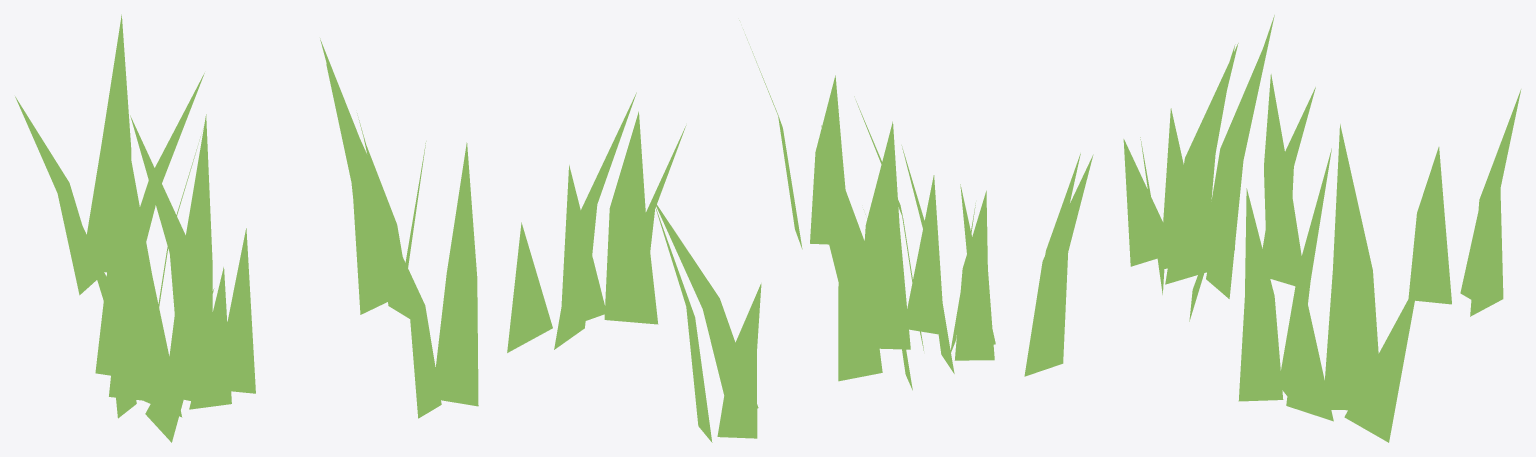
File: Grass_a_TwoS_07.fbx
3 views of the same model, side by side, from view 1: azimuth 30°, elevation 25°; view 2: azimuth 150°, elevation 25°; view 3: azimuth 270°, elevation 25° (orthographic).
Parts seen in each view (by area): view 1: Grass_a_TwoS_07; view 2: Grass_a_TwoS_07; view 3: Grass_a_TwoS_07.
Part boxes in pixels (x1=…): Grass_a_TwoS_07: x1=15, y1=14, x2=478, y2=442; Grass_a_TwoS_07: x1=507, y1=20, x2=995, y2=442; Grass_a_TwoS_07: x1=1024, y1=15, x2=1521, y2=442.
Size of the model in its own units: 1 by 0.6428 by 1.08.
